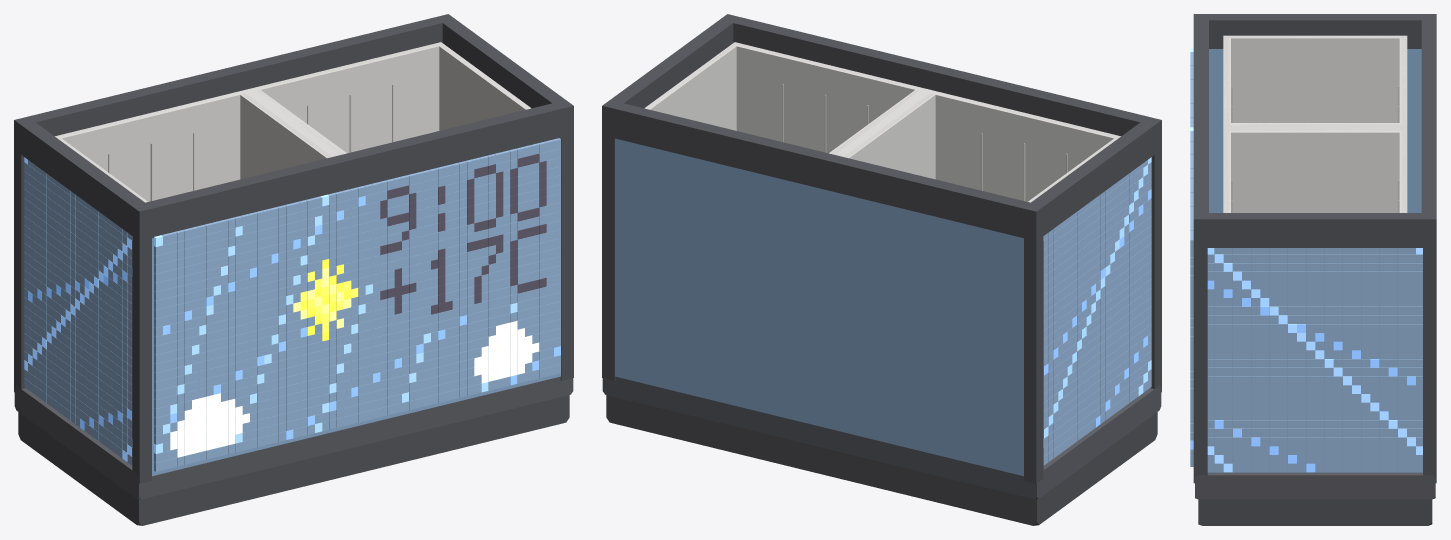
The model's file is smart_trash.glb.
The picture shows the model from 3 angles, left to right: view 1: azimuth 30°, elevation 25°; view 2: azimuth 150°, elevation 25°; view 3: azimuth 270°, elevation 25°; orthographic projection. The views are drawn at different scales.
Visible parts, largest first — view 1: front_true_pixel_blue0, left_true_pixel_blue0, rim_front, base_lower, base_upper, left_white_wood_box_back_wall, right_white_wood_box_back_wall, rim_back, front_true_pixel_dark, corner_post_2, rim_left, right_white_wood_box_right_wall (+16 smaller); view 2: back_solid_backing, left_true_pixel_blue0, rim_back, base_lower, base_upper, right_white_wood_box_front_wall, left_white_wood_box_front_wall, rim_front, corner_post_1, rim_left, right_white_wood_box_right_wall, left_white_wood_box_right_wall (+6 smaller); view 3: right_true_pixel_blue0, left_white_wood_box_left_wall, right_white_wood_box_left_wall, rim_right, base_upper, base_lower, rim_left, left_solid_backing, corner_post_4, corner_post_3, rim_front, rim_back (+16 smaller).
Boxes of the visible parts, box(x1,y1,x2,y2) form: front_true_pixel_blue0: box(154, 138, 560, 471); left_true_pixel_blue0: box(24, 160, 132, 465); rim_front: box(131, 100, 573, 240); base_lower: box(18, 395, 569, 525); base_upper: box(14, 376, 573, 499); left_white_wood_box_back_wall: box(55, 90, 244, 201); right_white_wood_box_back_wall: box(252, 42, 444, 153); rim_back: box(14, 14, 455, 154); front_true_pixel_dark: box(380, 153, 546, 314); corner_post_2: box(132, 203, 151, 483); rim_left: box(22, 122, 144, 235); right_white_wood_box_right_wall: box(439, 45, 531, 130); back_solid_backing: box(615, 138, 1023, 476); left_true_pixel_blue0: box(1043, 160, 1151, 465); rim_back: box(602, 100, 1044, 238); base_lower: box(606, 395, 1157, 525); base_upper: box(602, 376, 1161, 499); right_white_wood_box_front_wall: box(731, 42, 923, 153); left_white_wood_box_front_wall: box(931, 90, 1120, 201); rim_front: box(720, 14, 1161, 154); corner_post_1: box(1024, 203, 1043, 483); rim_left: box(1031, 122, 1153, 235); right_white_wood_box_right_wall: box(644, 45, 736, 130); left_white_wood_box_right_wall: box(843, 94, 935, 179); right_true_pixel_blue0: box(1207, 248, 1422, 472); left_white_wood_box_left_wall: box(1231, 35, 1399, 122); right_white_wood_box_left_wall: box(1231, 129, 1399, 212); rim_right: box(1209, 213, 1421, 247); base_upper: box(1195, 472, 1435, 499); base_lower: box(1198, 499, 1432, 525); rim_left: box(1209, 14, 1421, 48); left_solid_backing: box(1209, 49, 1421, 212); corner_post_4: box(1193, 213, 1207, 483); corner_post_3: box(1423, 213, 1436, 483); rim_front: box(1193, 14, 1208, 247); rim_back: box(1421, 14, 1436, 247).
Bounding box in the file's own units: 1.92 × 1.34 × 0.974.
